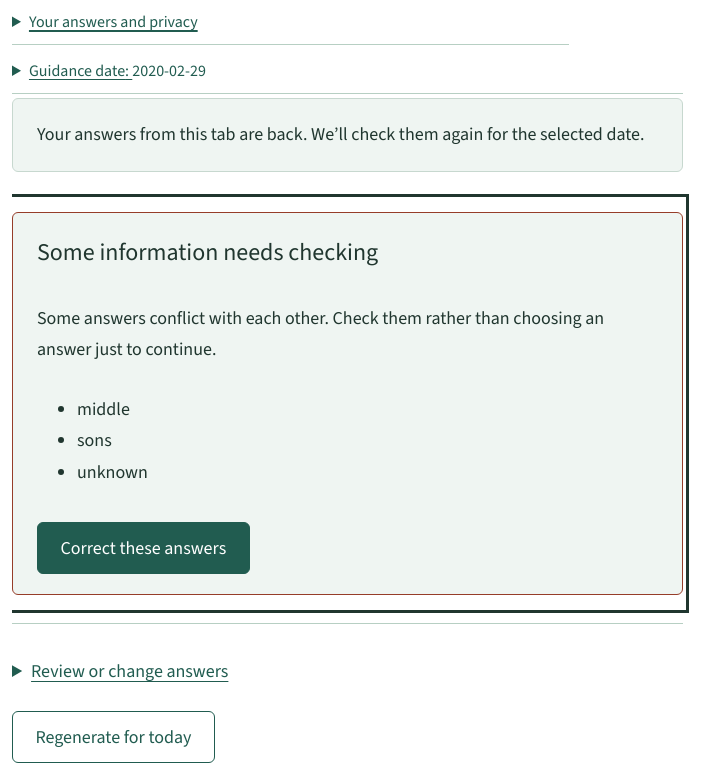
Test: review, diagnostics and refresh recovery › invalid diagnostics correct the earliest matching answer, including recurring fields
The image size is (706, 768).
Expected: the heading "Some information needs checking" is shown, [37,236,378,268]
Expected: the message that starts with "Some information needs checking" shows "Some answers conflict", [37,306,604,361]
Click the button "Correct these answers".
click(143, 548)  # box [37,522,250,574]
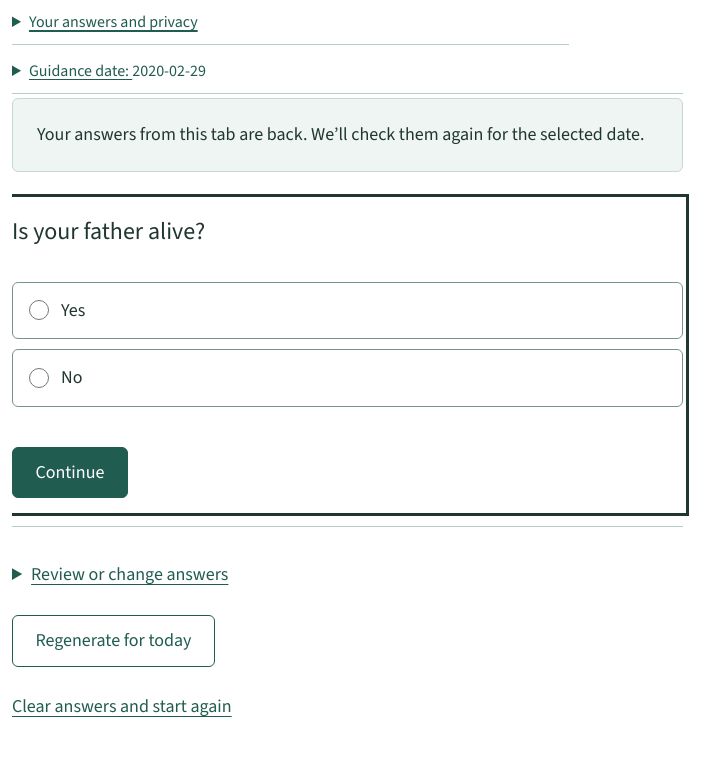
Expected: the heading "Is your father alive?" is shown, [12,214,205,246]
